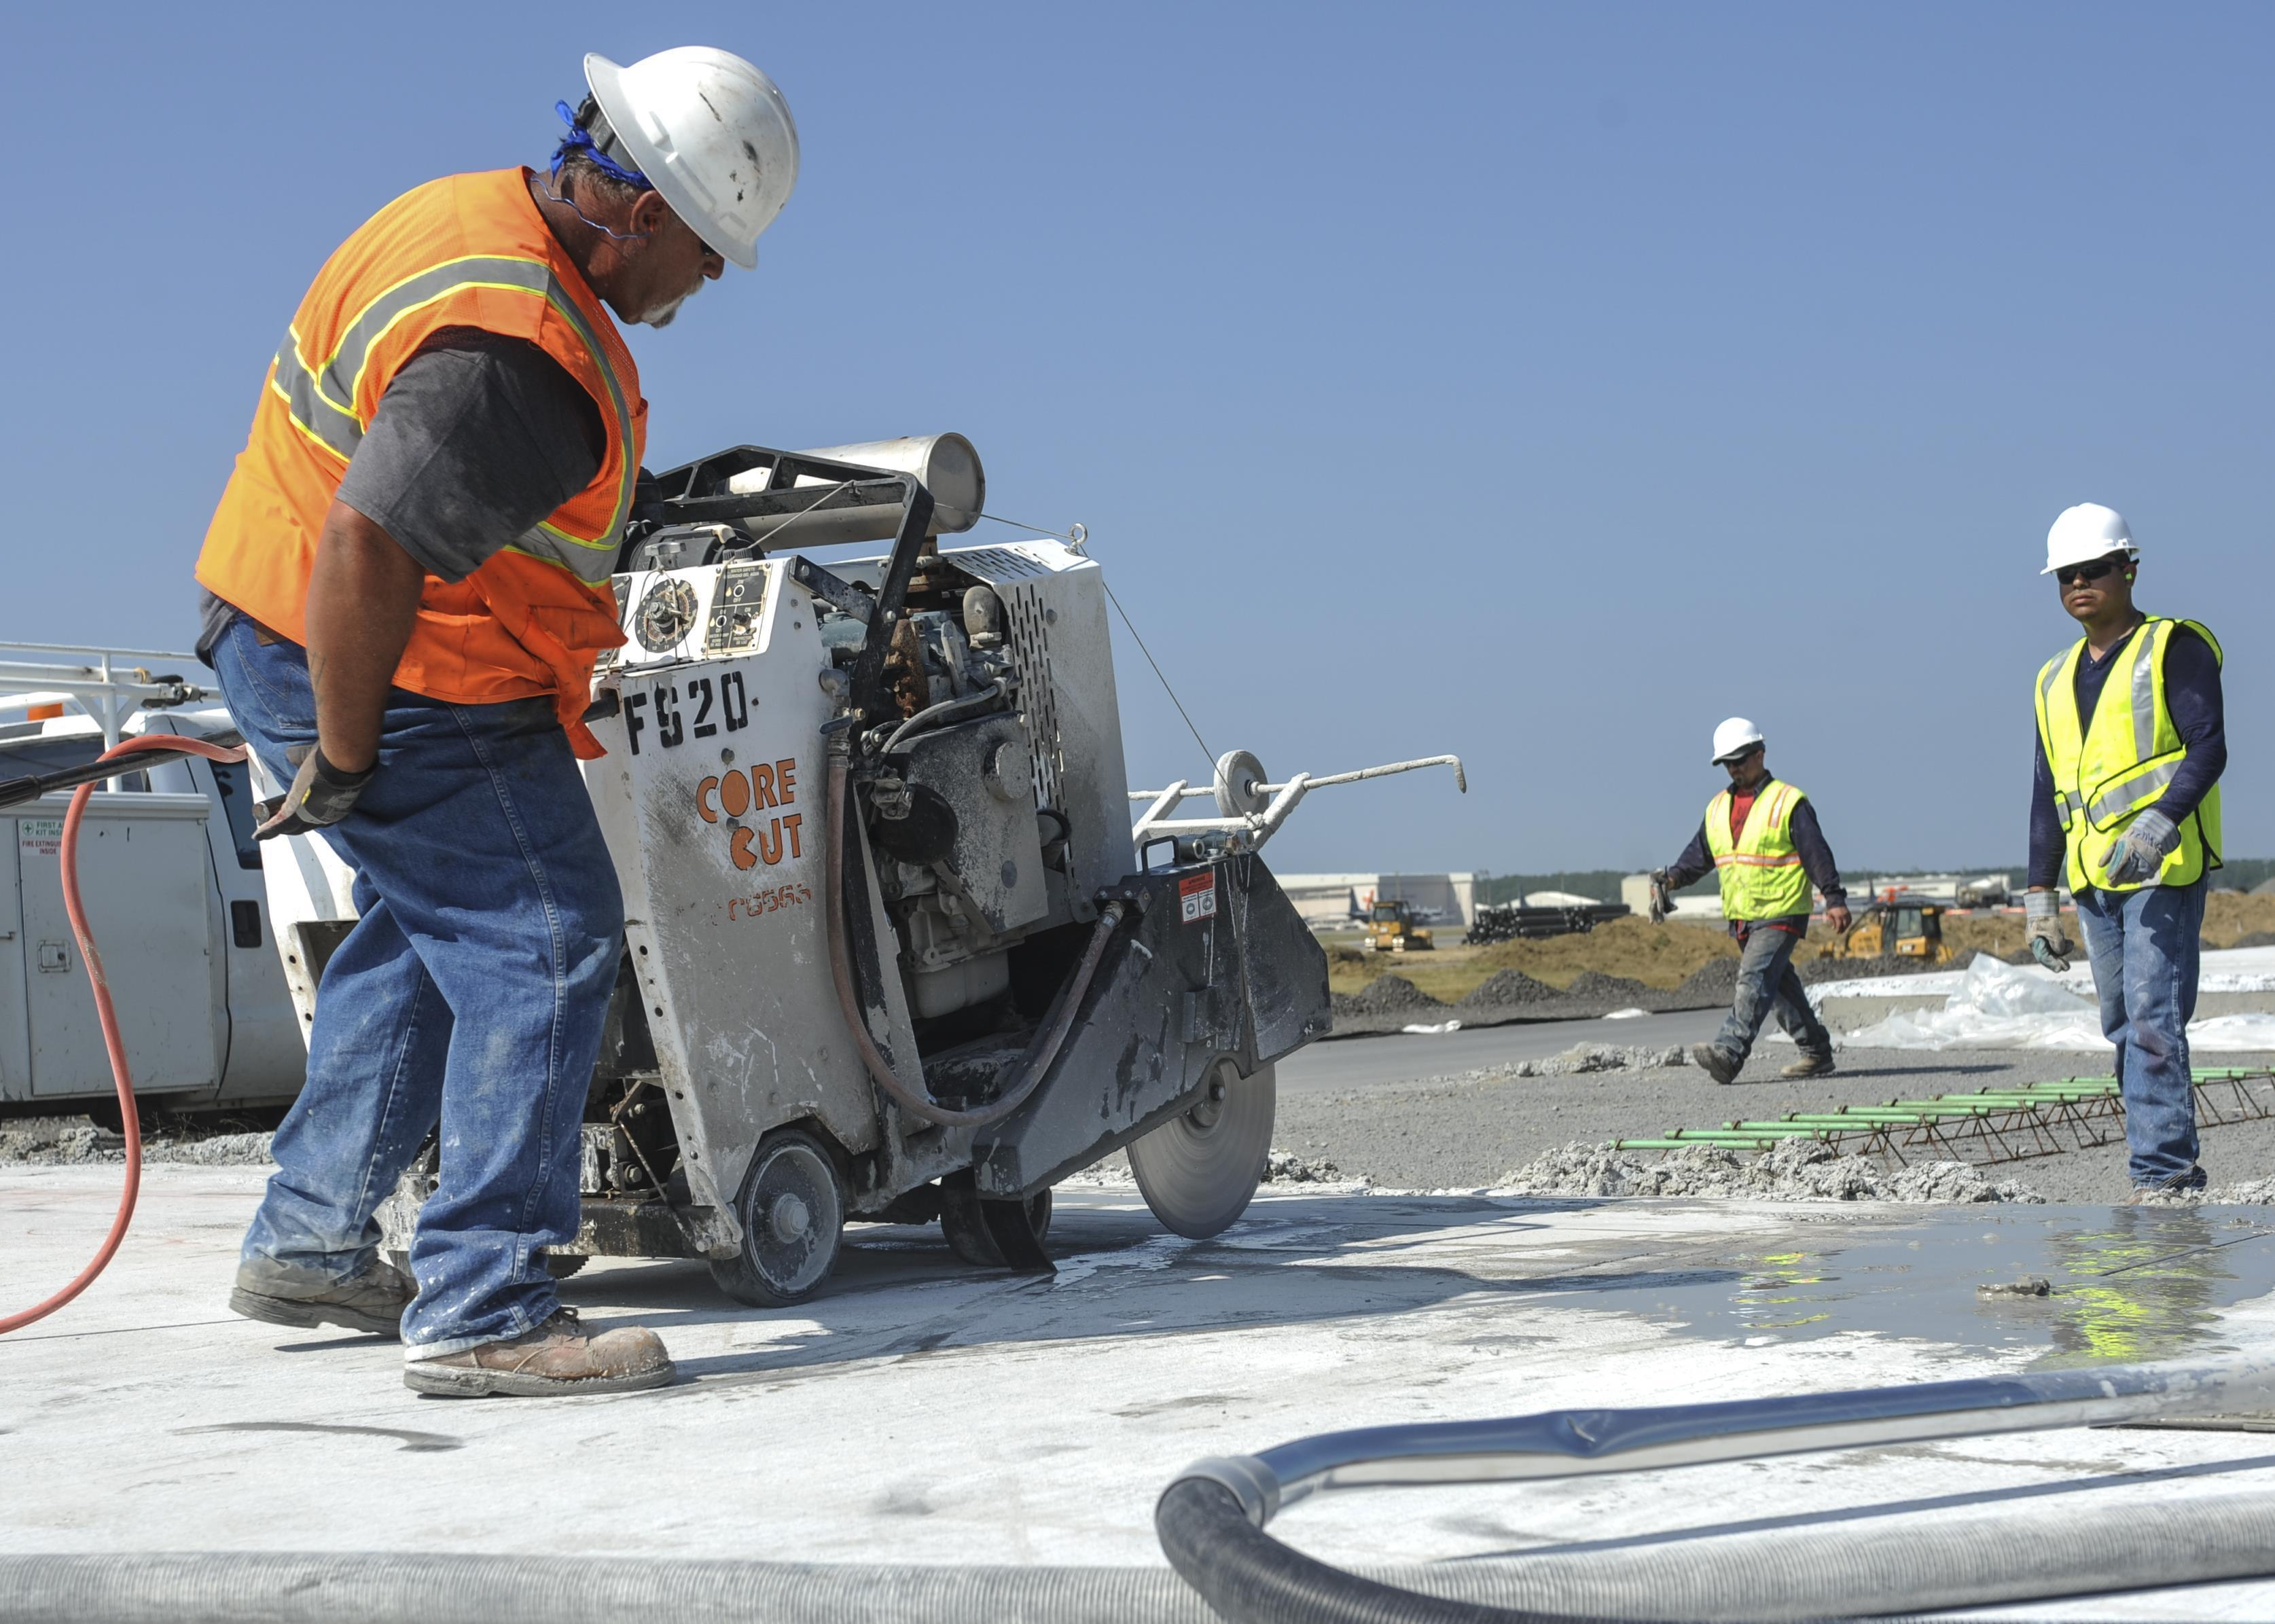vest: (234, 151, 668, 722), (2015, 615, 2226, 903), (1691, 775, 1823, 916)
